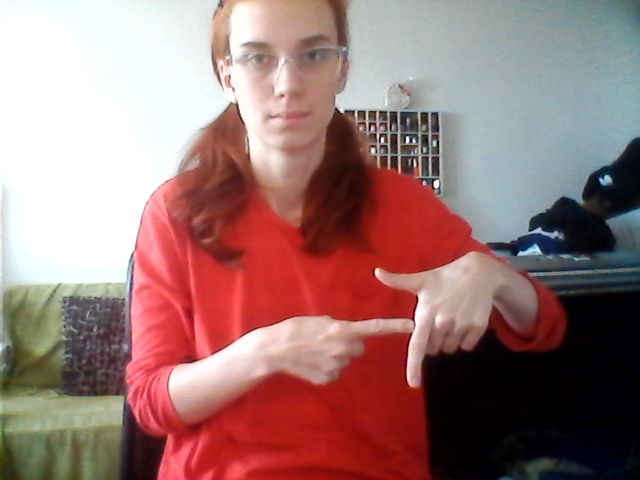f: (279, 247, 496, 398)
